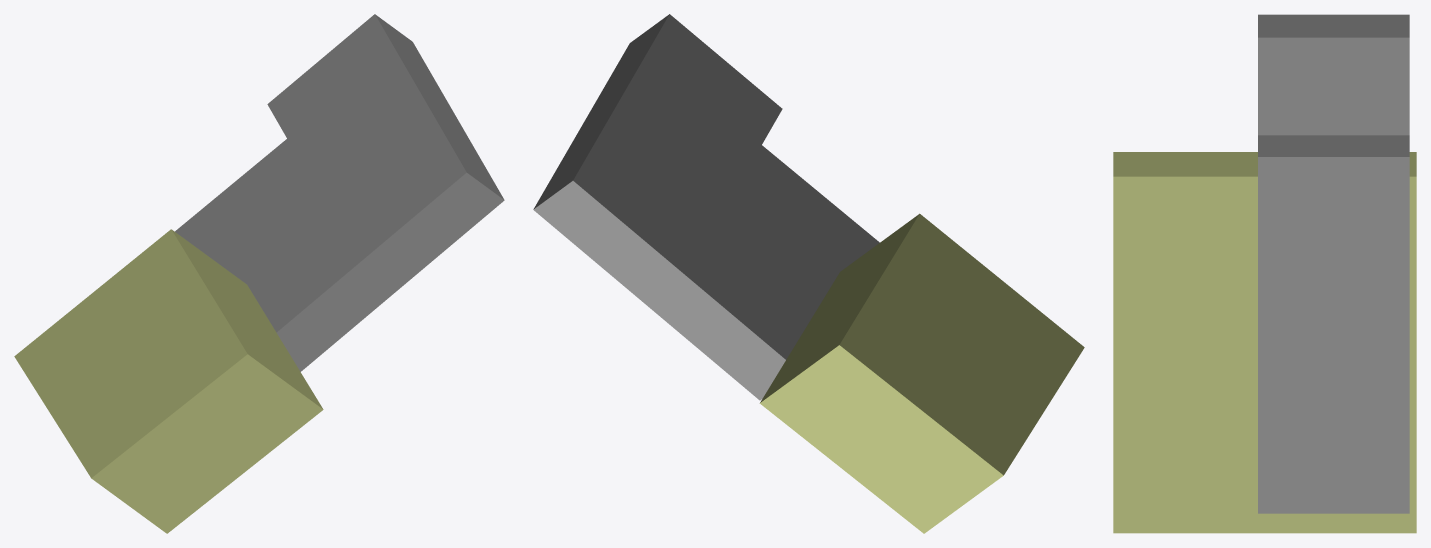
The picture shows the model from 3 angles, left to right: view 1: azimuth 30°, elevation 25°; view 2: azimuth 150°, elevation 25°; view 3: azimuth 270°, elevation 25°; orthographic projection. The views are drawn at different scales.
Visible parts, largest first — view 1: 0_2_2_0_3_3_3_1_0_1; view 2: 0_2_2_0_3_3_3_1_0_1; view 3: 0_2_2_0_3_3_3_1_0_1.
Part boxes in pixels (box(x1,y1,x2,y2)): 0_2_2_0_3_3_3_1_0_1: box(14, 14, 504, 533); 0_2_2_0_3_3_3_1_0_1: box(533, 14, 1084, 533); 0_2_2_0_3_3_3_1_0_1: box(1113, 14, 1416, 533).
Size of the model in its own units: 20.57 by 17.31 by 6.
